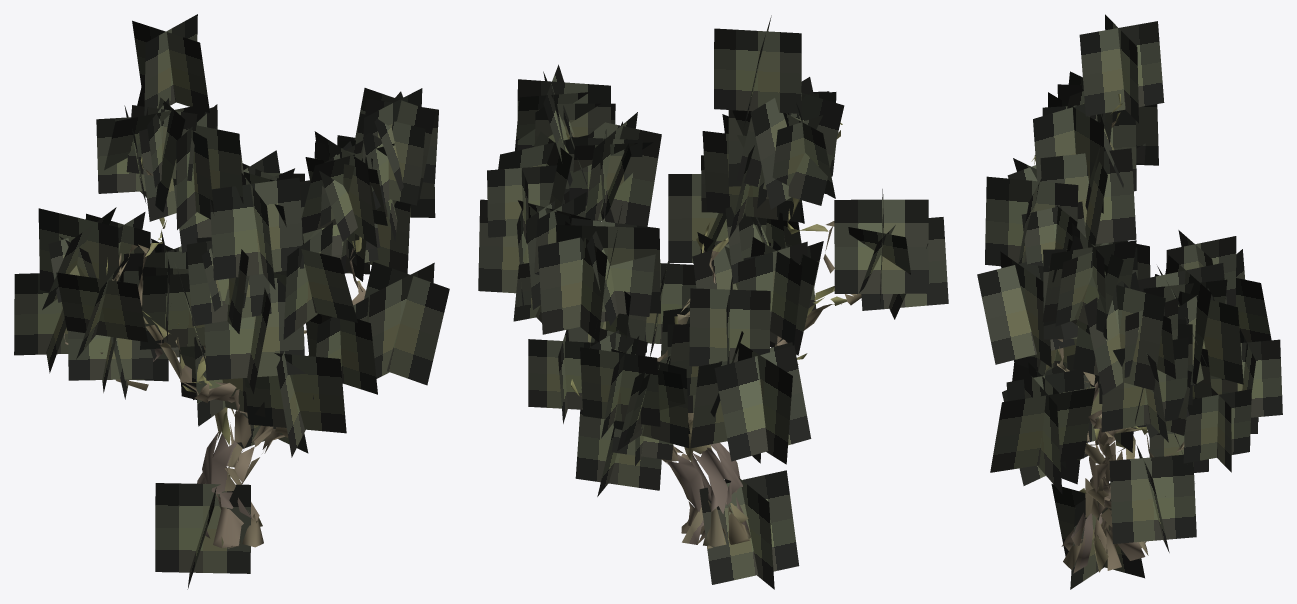
The model's file is ironwood.glb.
The picture shows the model from 3 angles, left to right: view 1: azimuth 30°, elevation 25°; view 2: azimuth 150°, elevation 25°; view 3: azimuth 270°, elevation 25°; orthographic projection. The views are drawn at different scales.
Parts seen in each view (by area): view 1: cards, LO.001; view 2: cards, LO.001; view 3: cards, LO.001.
Boxes of the visible parts, x1=… form: cards: x1=14, y1=14, x2=449, y2=589; LO.001: x1=64, y1=156, x2=365, y2=548; cards: x1=478, y1=15, x2=948, y2=589; LO.001: x1=566, y1=123, x2=861, y2=548; cards: x1=977, y1=14, x2=1282, y2=589; LO.001: x1=1031, y1=94, x2=1184, y2=573.
Size of the model in its own units: 0.7979 by 1.02 by 0.5308.
2 materials, 2 textured.
